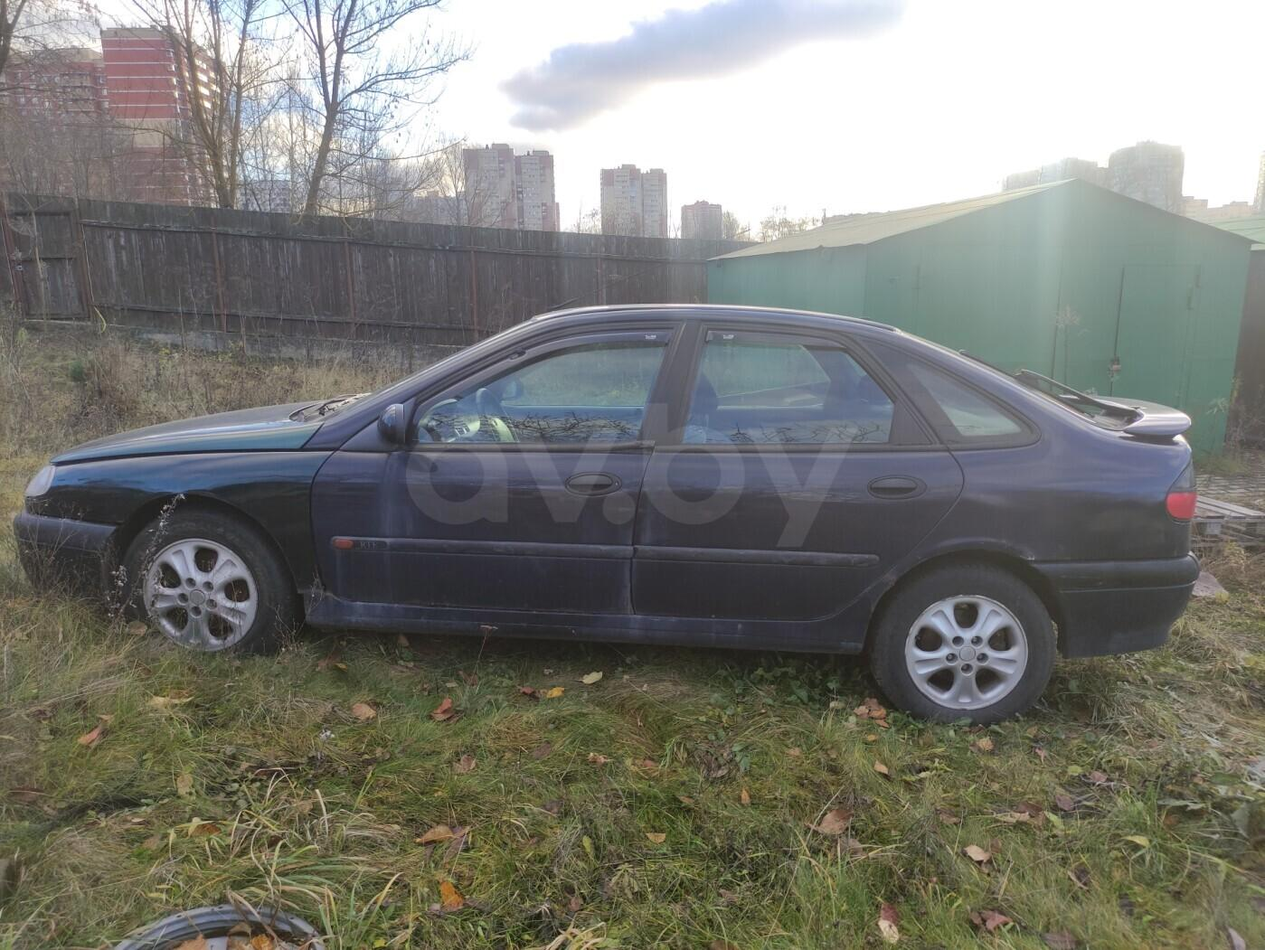Lahuna_1993-1999: (14, 293, 1219, 718)
